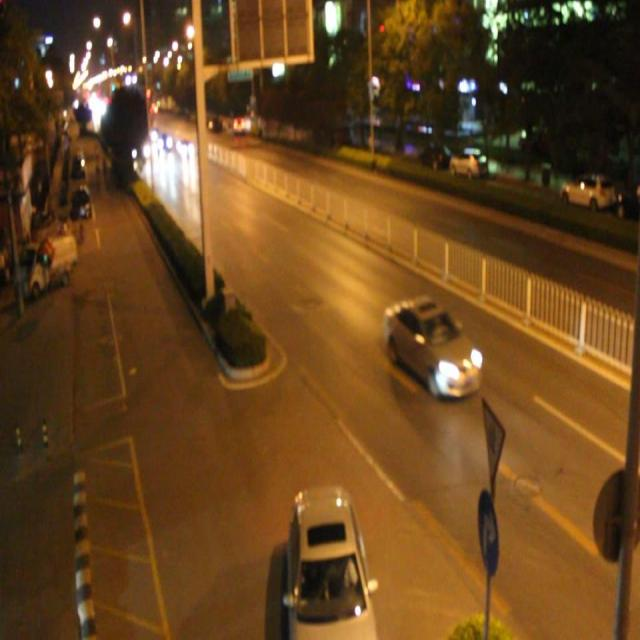car: (284, 486, 378, 640), (384, 294, 483, 398), (176, 137, 194, 158), (157, 132, 172, 150), (233, 116, 246, 133)
